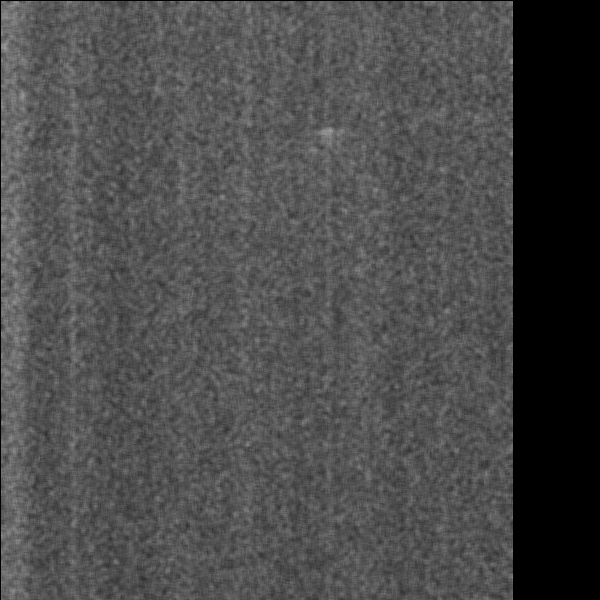spark: (375, 207, 408, 246)
